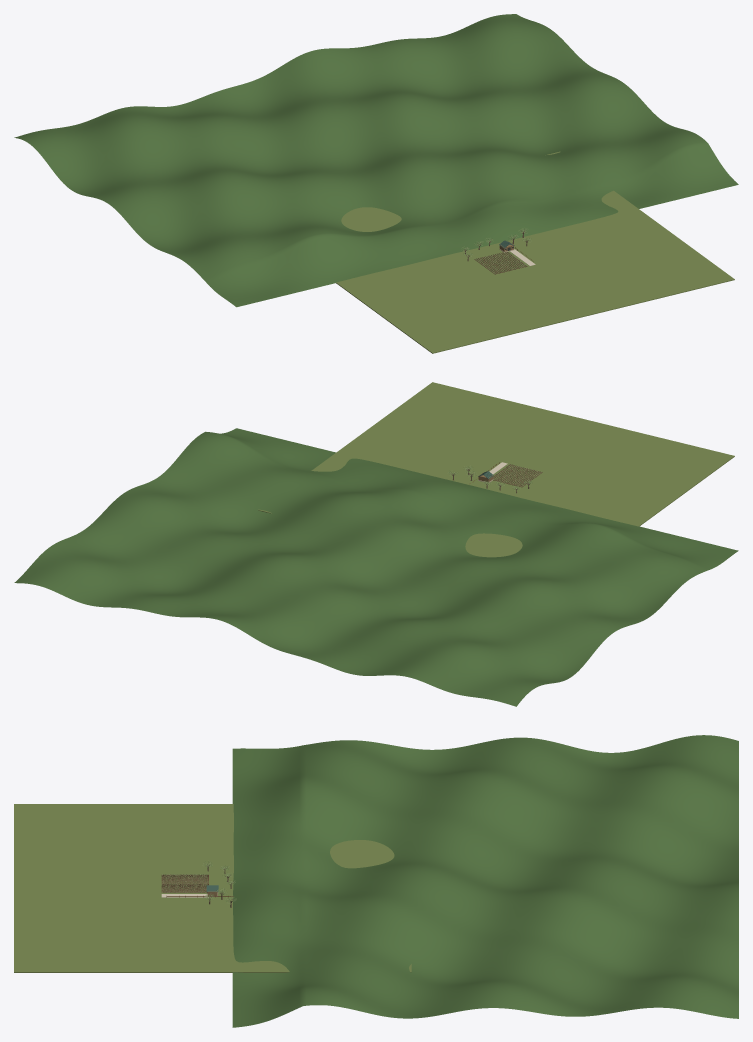
The model's file is farm-scenery.glb.
3 views of the same model, one above another, from view 1: azimuth 30°, elevation 25°; view 2: azimuth 150°, elevation 25°; view 3: azimuth 270°, elevation 25° (orthographic). The views are drawn at different scales.
Visible parts, largest first — view 1: Rolling countryside, Landscape ground; view 2: Rolling countryside, Landscape ground; view 3: Rolling countryside, Landscape ground.
Boxes of the visible parts, x1,y1,x2,y2 form: Rolling countryside: (14,14,738,307); Landscape ground: (336,151,734,353); Rolling countryside: (14,428,738,706); Landscape ground: (258,382,734,557); Rolling countryside: (232,735,738,1027); Landscape ground: (14,804,411,972).
Size of the model in its own units: 432 by 21.91 by 474.
